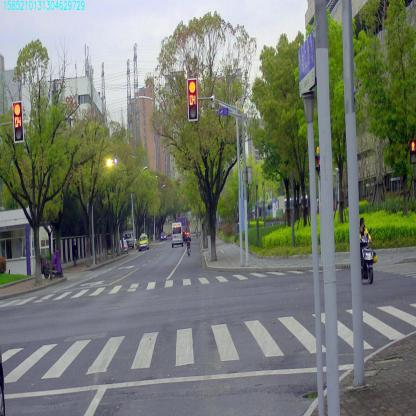traffic-light: (188, 79, 198, 120), (13, 102, 23, 142)
